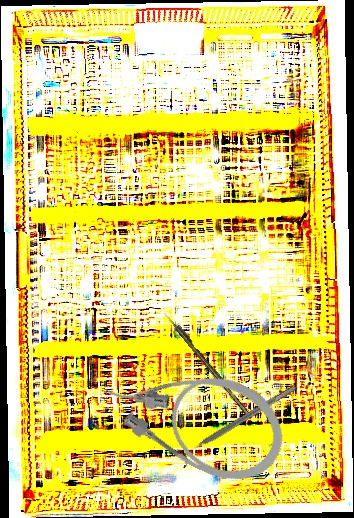Cannula: (91, 333, 301, 498)
Fixation Ring: (172, 378, 302, 469)
Hook Surgical: (162, 309, 250, 416)
